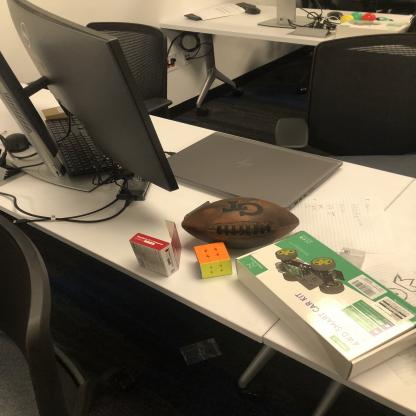SolvedCube: (193, 242, 237, 282)
